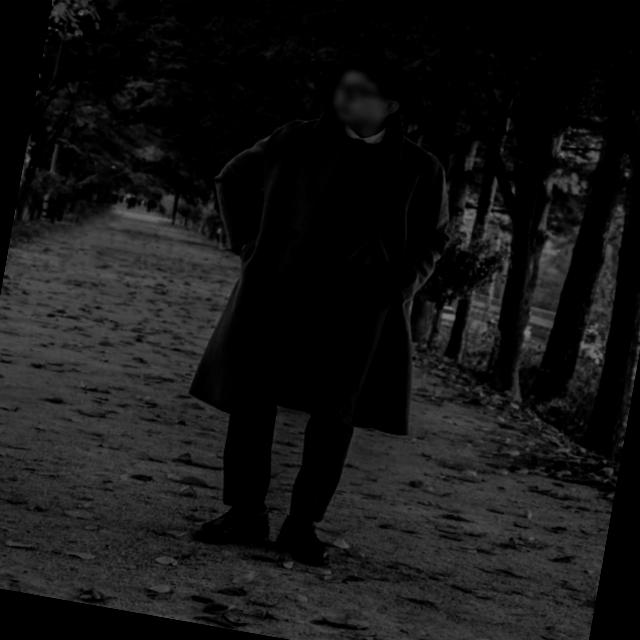coat: (170, 81, 472, 452)
slacks: (214, 265, 386, 531)
sweater: (287, 128, 418, 292)
